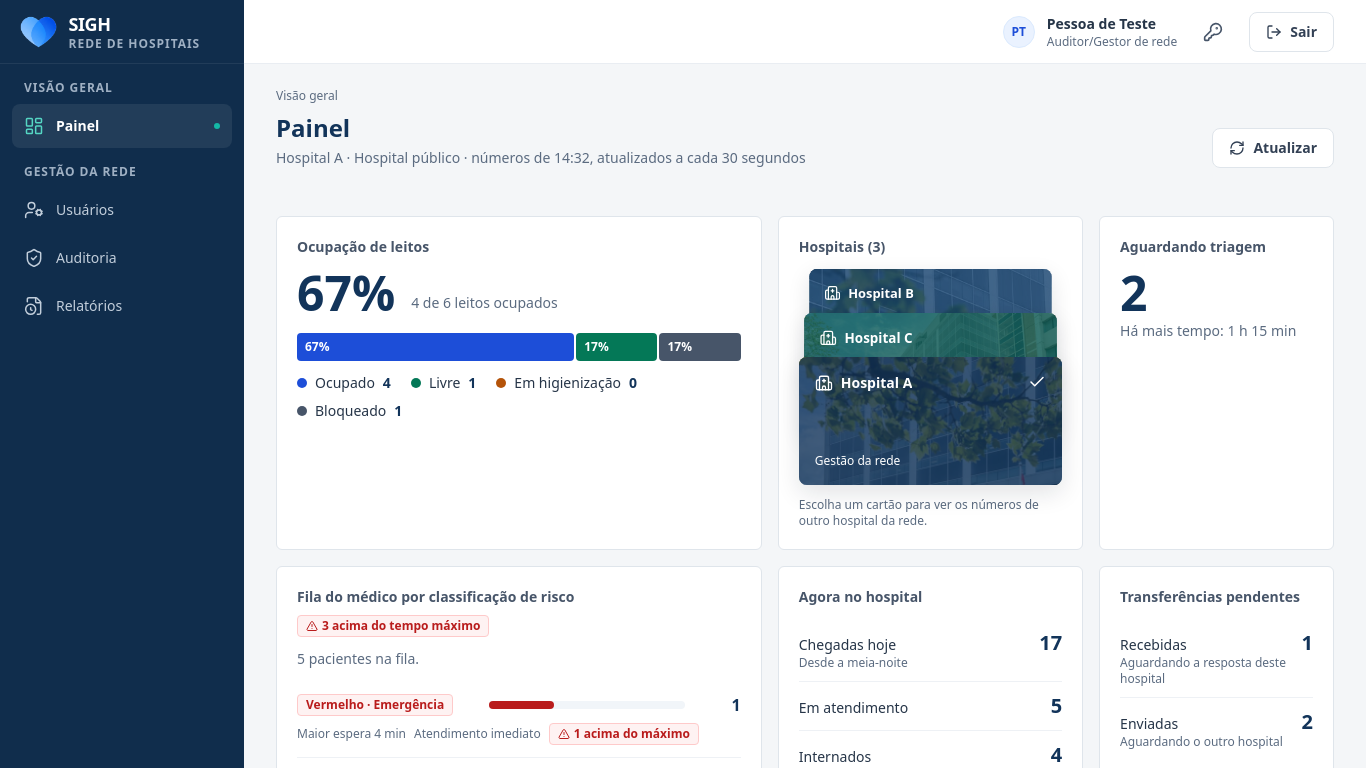
FE-09: painel por hospital › o gestor da rede vê todos os hospitais credenciados, sem trocar instituição nenhuma
Expected: the radio button labelled "Hospital A Gestão da rede" is checked, [799,357,1062,485]
Expected: the radio button labelled "Hospital A Gestão da rede" is shown, [799,357,1062,485]
Click the radio button labelled "Hospital C Gestão da rede" at (930, 374), box [804,313,1057,436]
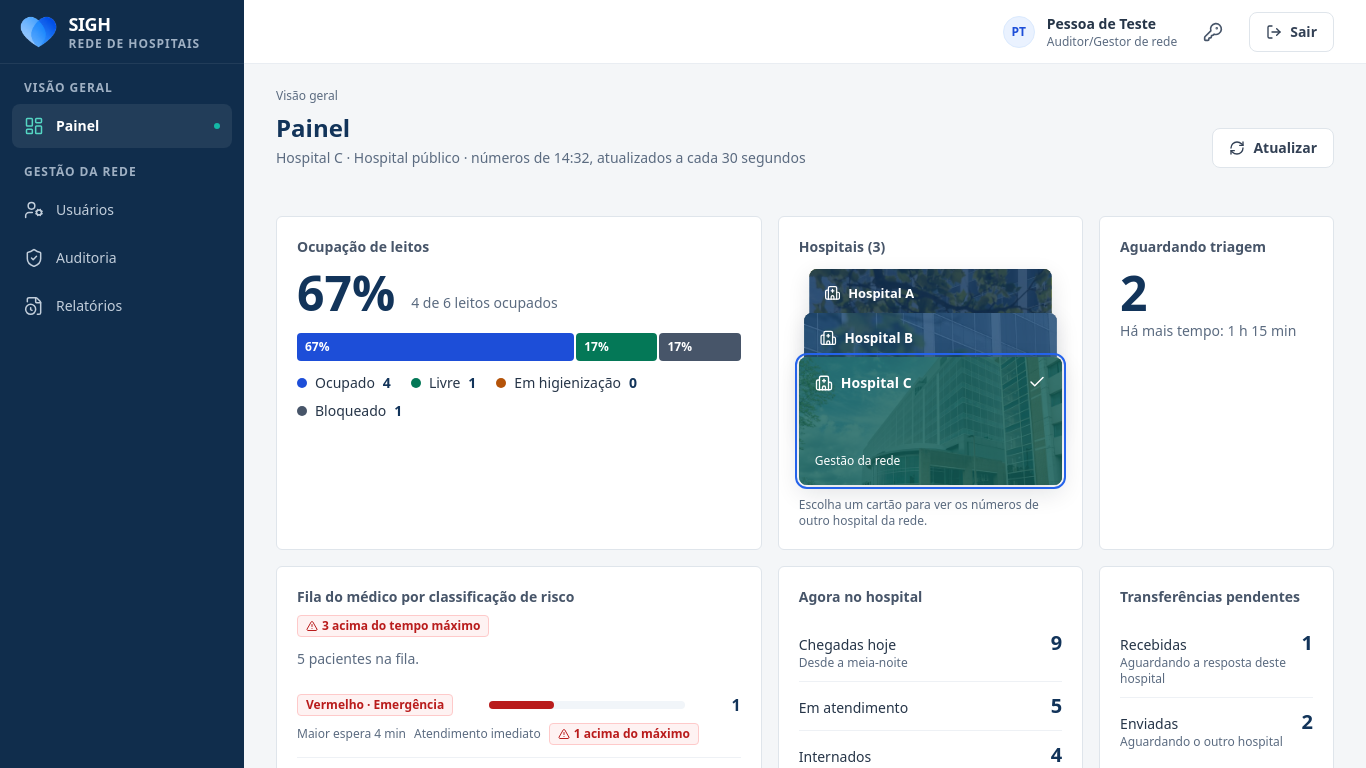
Now the text "Chegadas hoje" shows "9", box [1051,629,1062,656]
